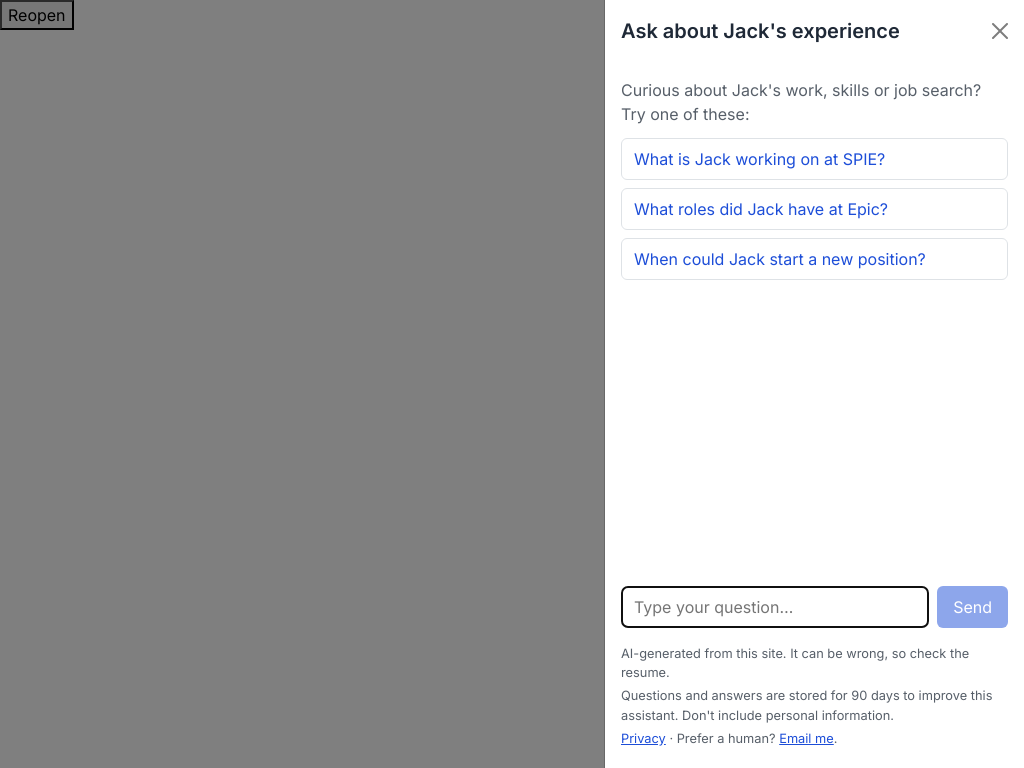
AssistantDrawer › on a phone, closes first and then jumps to the linked section
Click the button "What is Jack working on at SPIE?".
click(814, 159)  # box [621,138,1008,180]
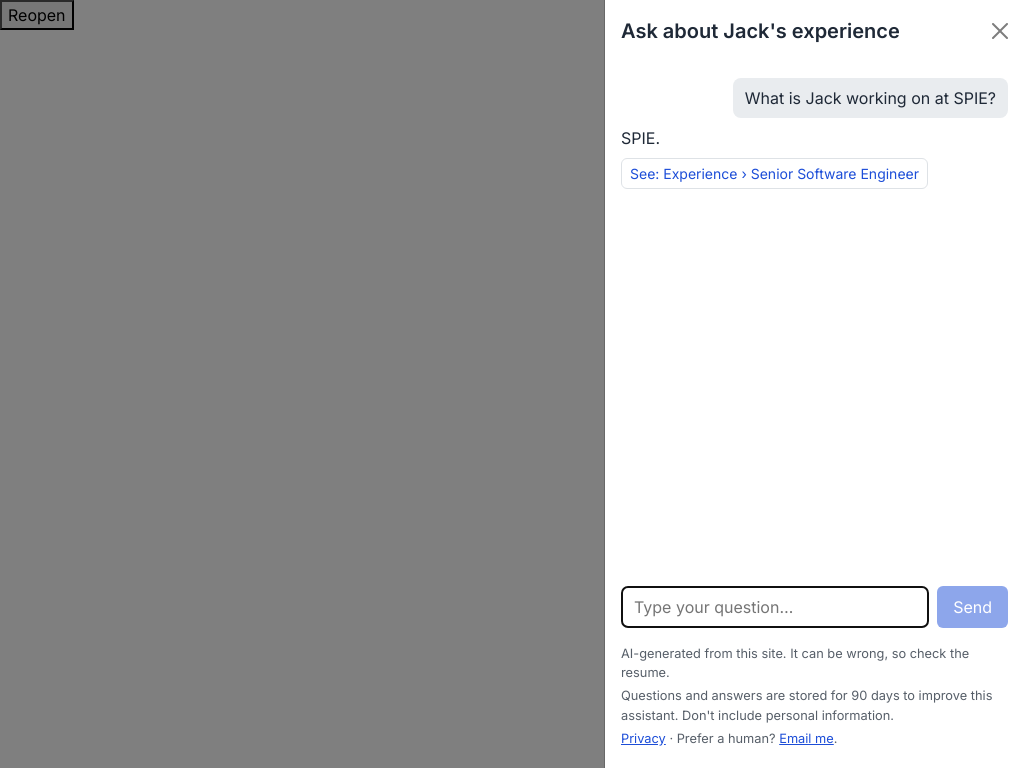
Click the button "See: Experience › Senior Software Engineer".
click(774, 174)  # box [621,158,928,189]
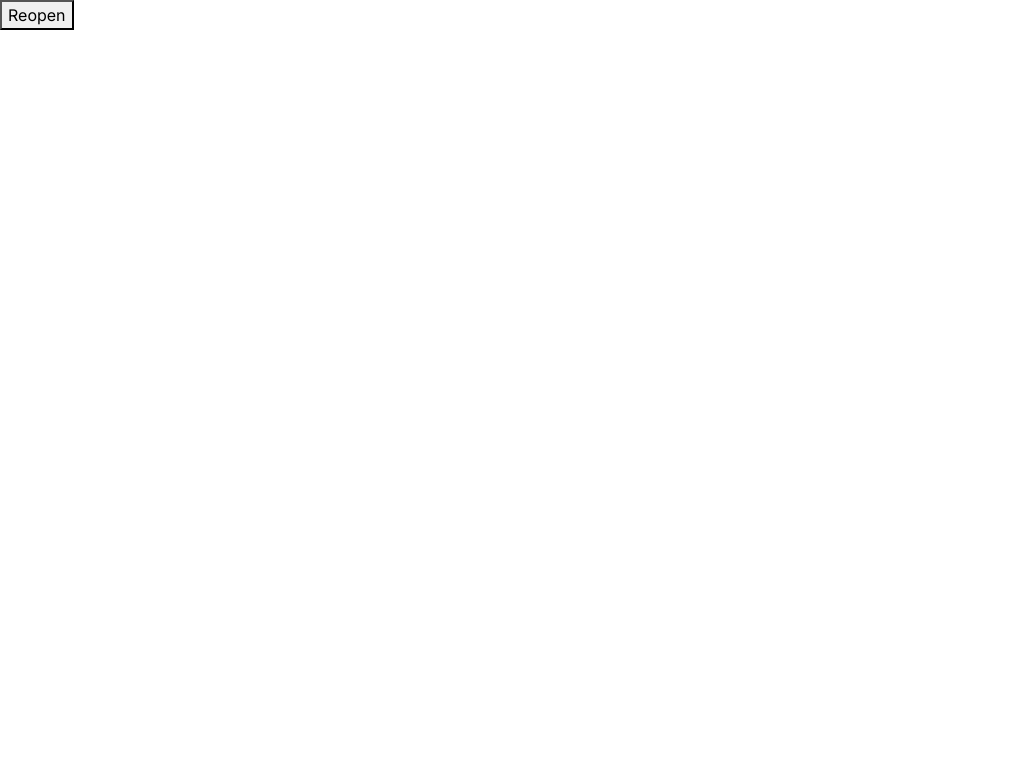
Expected: the text "Your question" is gone
